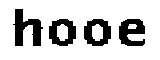e: (118, 17, 148, 51)
h: (9, 6, 41, 50)
o: (47, 16, 77, 47), (84, 16, 112, 49)
